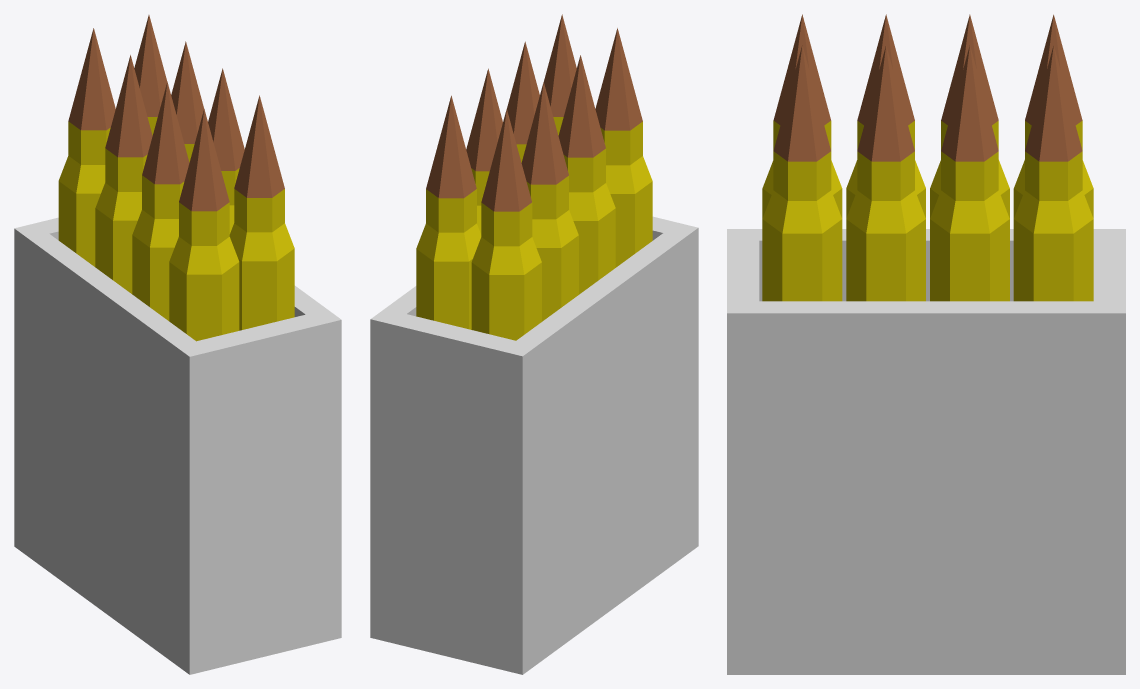
File: Ammobox.fbx
3 views of the same model, side by side, from view 1: azimuth 30°, elevation 25°; view 2: azimuth 150°, elevation 25°; view 3: azimuth 270°, elevation 25° (orthographic). The views are drawn at different scales.
Visible parts, largest first — view 1: AmmoBox, Cylinder; view 2: AmmoBox, Cylinder; view 3: AmmoBox, Cylinder.
Part boxes in pixels (x1,y1,x2,y2): AmmoBox: [14, 217, 341, 674]; Cylinder: [58, 15, 294, 341]; AmmoBox: [370, 216, 698, 674]; Cylinder: [416, 14, 652, 340]; AmmoBox: [727, 229, 1125, 674]; Cylinder: [762, 14, 1093, 301].
Bounding box in the file's own units: 14 × 46.7 × 28.
